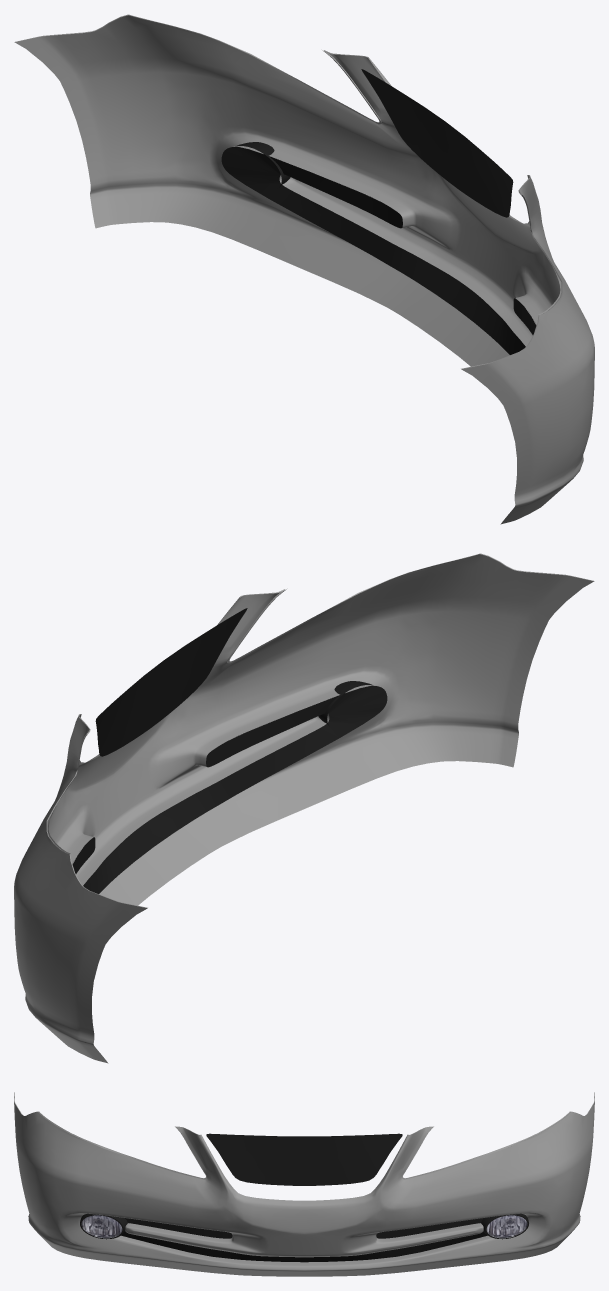
3 views of the same model, one above another, from view 1: azimuth 30°, elevation 25°; view 2: azimuth 150°, elevation 25°; view 3: azimuth 270°, elevation 25° (orthographic). The views are drawn at different scales.
Visible parts, largest first — view 1: LX24_021G_C_LX24_021G_C_3_DaS, LX24_021G_C_LX24_021G_C_5_D, LX24_021G_C_LX24_021G_C_3_DaS_E; view 2: LX24_021G_C_LX24_021G_C_3_DaS, LX24_021G_C_LX24_021G_C_5_D, LX24_021G_C_LX24_021G_C_3_DaS_E; view 3: LX24_021G_C_LX24_021G_C_3_DaS, LX24_021G_C_LX24_021G_C_5_D, LX24_021G_C_LX24_021G_C_3_DaS_E, LX24_021G_C_1_N_LX24_021G_C, LX24_021G_C_LX24_021G_C_2_N, LX24_021G_C_LX24_021G_C_6_DTaSI, LX24_021G_C_LX24_021G_C_7_DTaSI, LX24_021G_C_LX24_021G_C_4_D.
Part boxes in pixels (x1,y1,x2,y2): LX24_021G_C_LX24_021G_C_3_DaS: (15,15,594,524); LX24_021G_C_LX24_021G_C_5_D: (221,69,536,354); LX24_021G_C_LX24_021G_C_3_DaS_E: (14,14,562,369); LX24_021G_C_LX24_021G_C_3_DaS: (14,554,593,1063); LX24_021G_C_LX24_021G_C_5_D: (72,608,387,893); LX24_021G_C_LX24_021G_C_3_DaS_E: (46,553,594,908); LX24_021G_C_LX24_021G_C_3_DaS: (14,1102,594,1276); LX24_021G_C_LX24_021G_C_5_D: (121,1133,487,1262); LX24_021G_C_LX24_021G_C_3_DaS_E: (14,1092,594,1179); LX24_021G_C_1_N_LX24_021G_C: (486,1215,527,1238); LX24_021G_C_LX24_021G_C_2_N: (81,1215,122,1238); LX24_021G_C_LX24_021G_C_6_DTaSI: (487,1215,526,1237); LX24_021G_C_LX24_021G_C_7_DTaSI: (82,1215,121,1237); LX24_021G_C_LX24_021G_C_4_D: (80,1213,528,1239).
Size of the model in its own units: 70.63 by 58.58 by 212.
